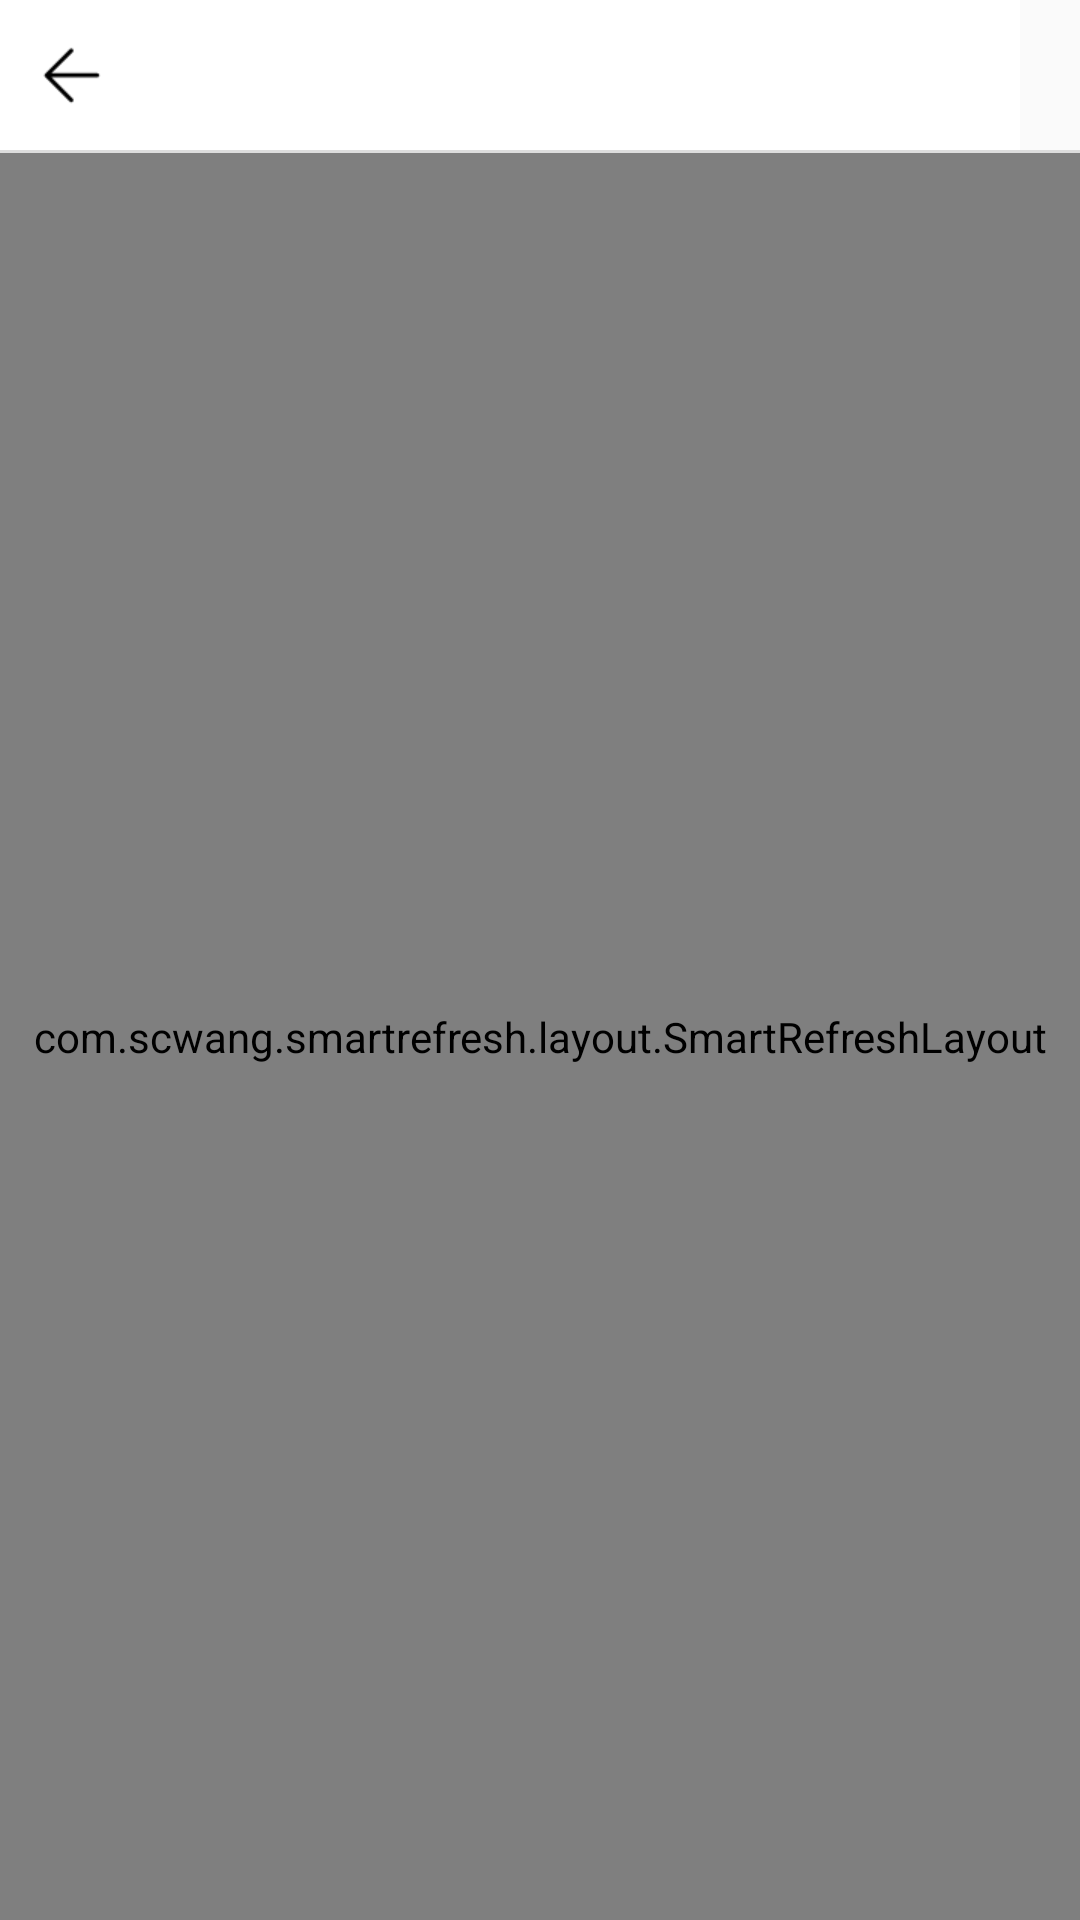

Point at icon controls on the screen. Image size 1080 x 1920, points as [x,y].
back: [71,75]
